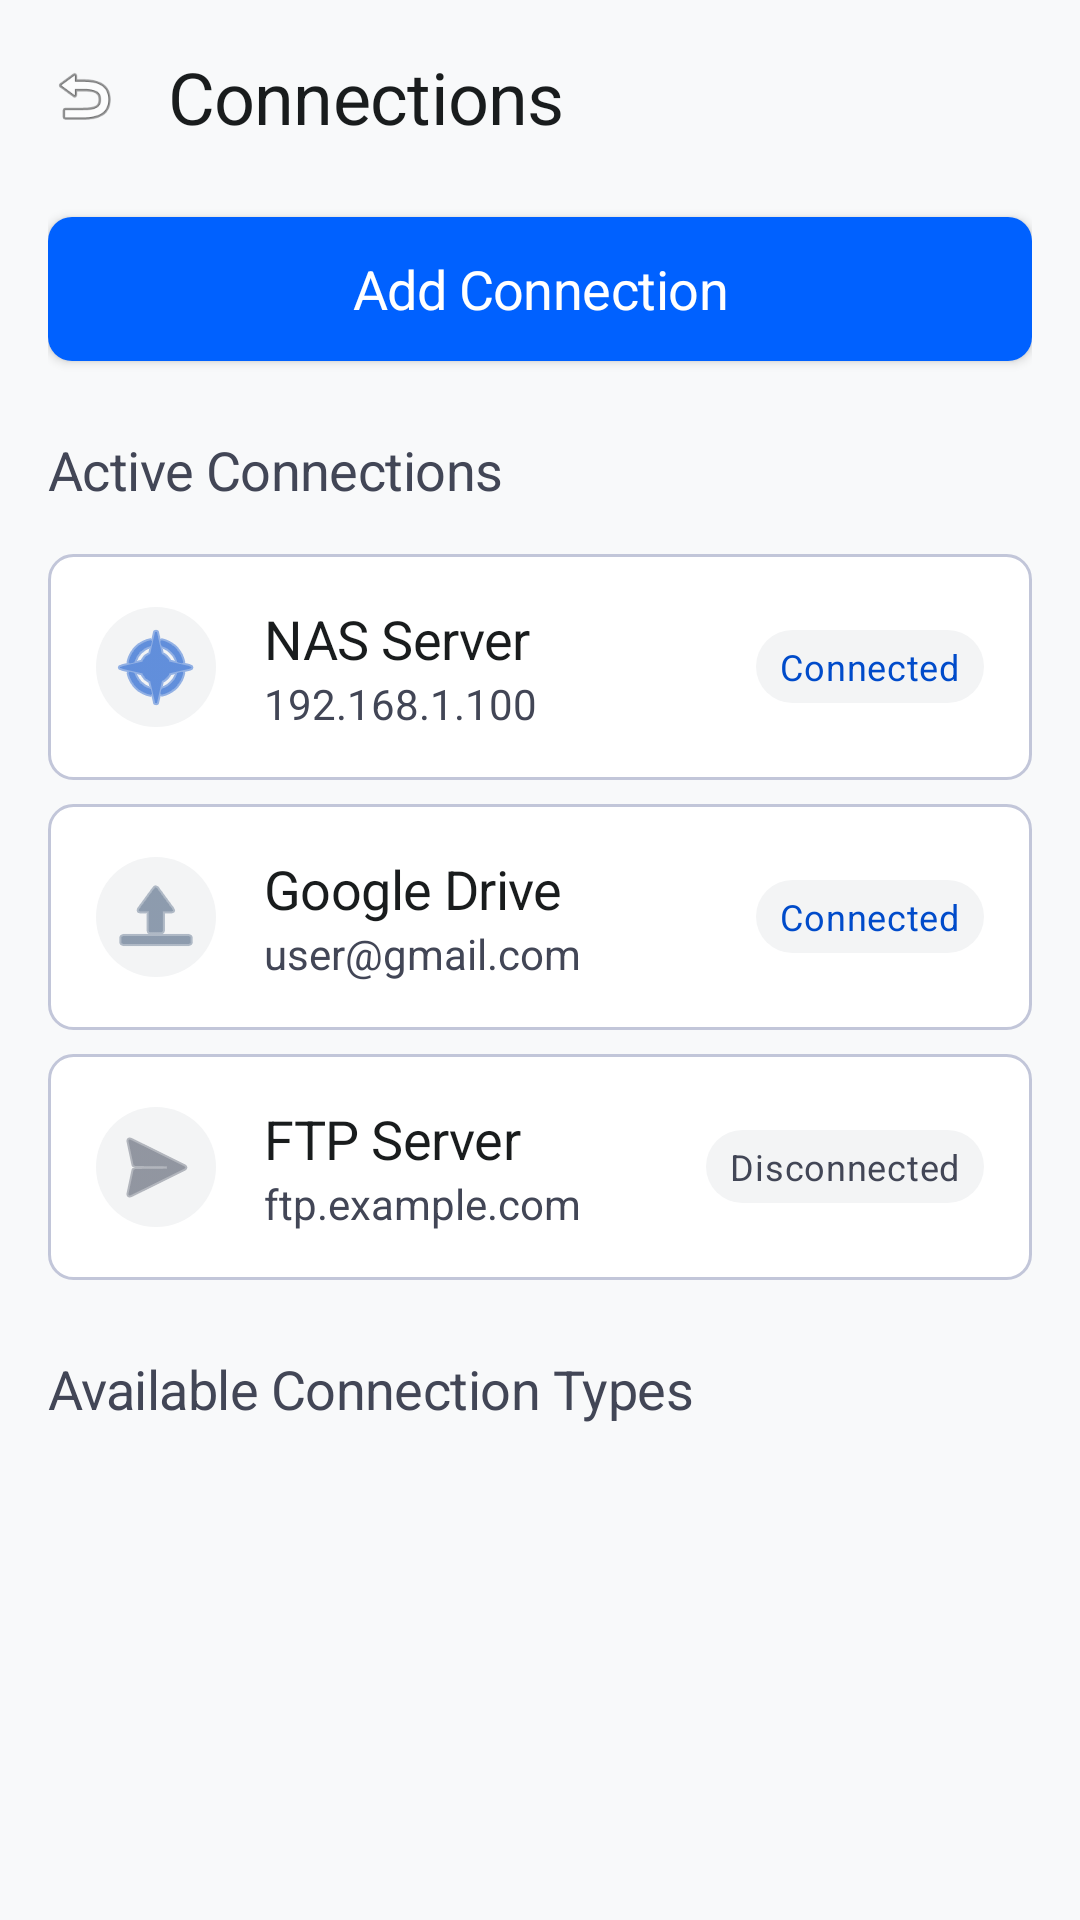

Screen size 1080w x 1920h. Icon name, then its center in pixels as point (x, y):
Back: point (85, 96)
send: point (157, 1167)
upload: point (156, 917)
